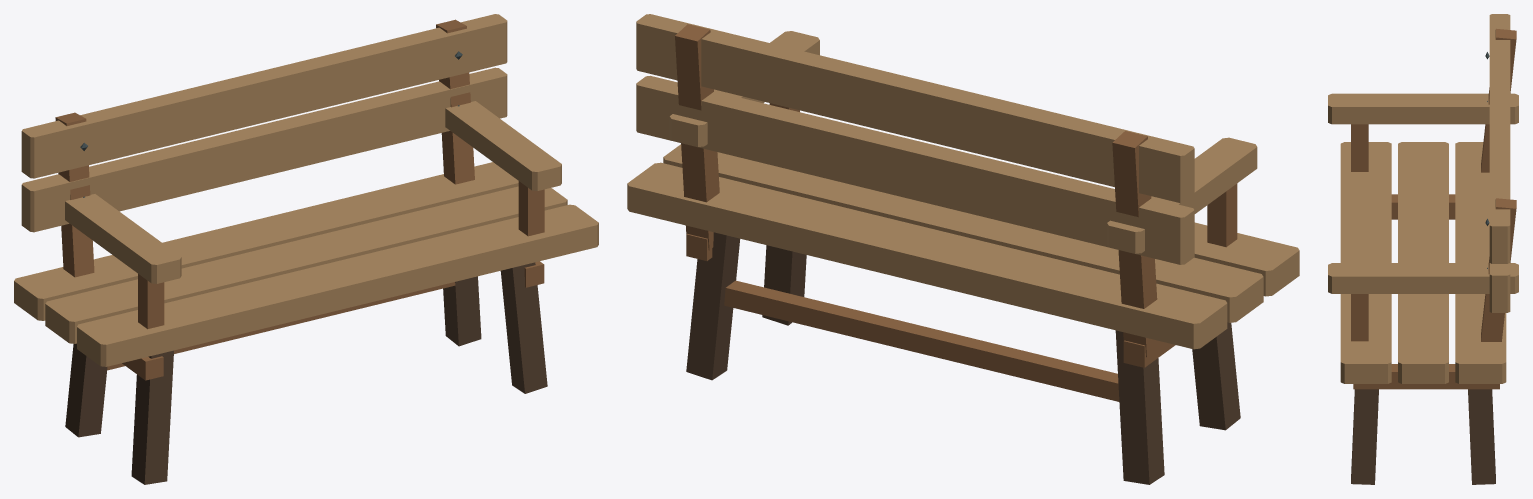
The model's file is decor_bench_wood.glb.
3 renders of one model, left to right at view 1: azimuth 30°, elevation 25°; view 2: azimuth 150°, elevation 25°; view 3: azimuth 270°, elevation 25°, orthographic. The views are drawn at different scales.
Parts seen in each view (by area): view 1: geometry; view 2: geometry; view 3: geometry.
Part boxes in pixels (<box>): geometry: <box>14,14,598,484</box>; geometry: <box>627,14,1299,484</box>; geometry: <box>1328,14,1518,484</box>.
Size of the model in its own units: 1.65 by 0.9677 by 0.6.
